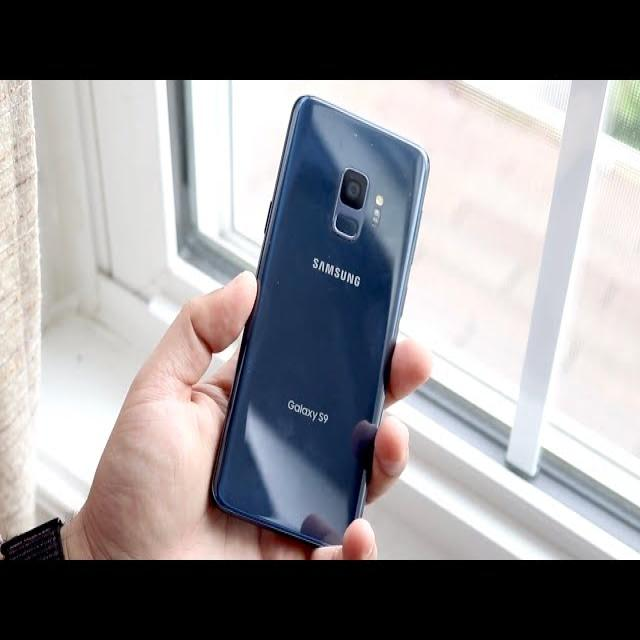mobile phone: (208, 92, 430, 549)
